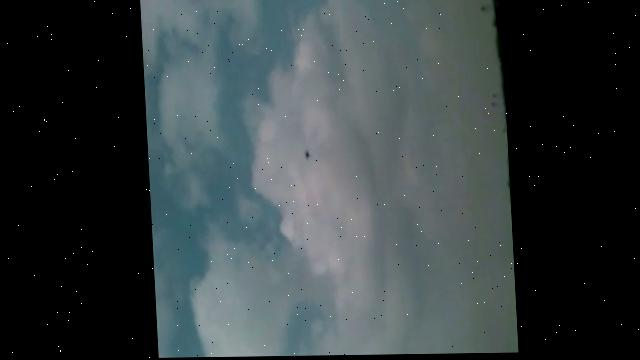drone: (297, 149, 308, 162)
